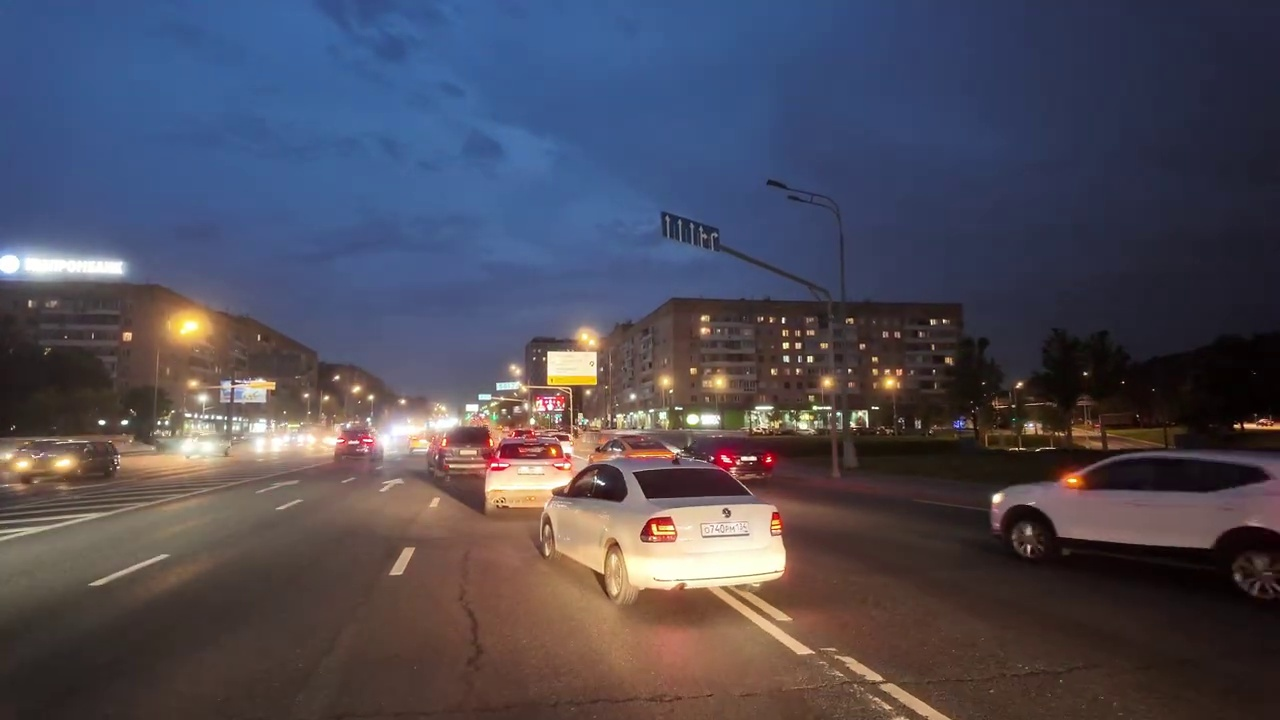acesa: (168, 311, 210, 344), (575, 326, 601, 351)
apagada: (763, 173, 792, 203)
